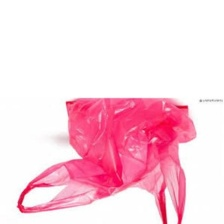plastic_bag: (13, 93, 199, 223)
